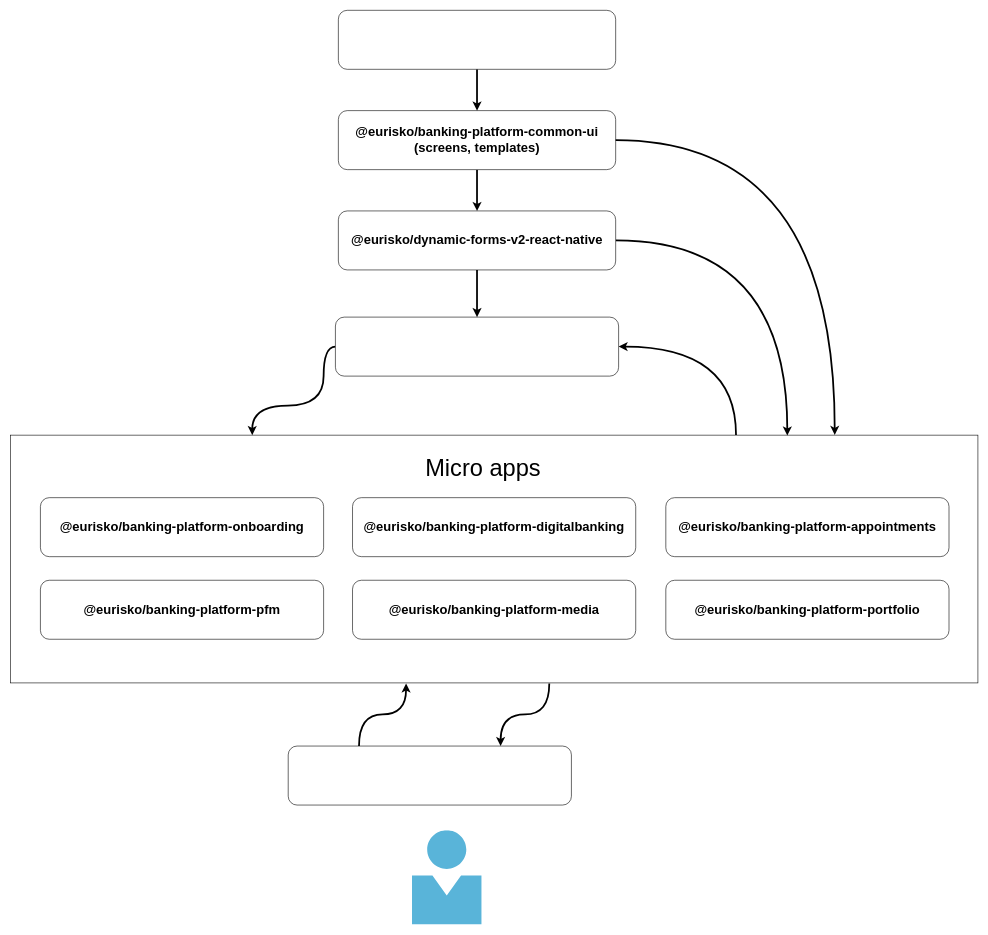
Some shapes in this 988 by 935 pixel diagram are drawn without their labels. Here are the shapes that lost their labels. From the top down, the centre of each, then its label:
At (x=477, y=39): "@eurisko/react-native-components (UI Visuals, atoms & molecules)".
At (x=477, y=346): "@eurisko/banking-platform-oauth (OAuth2.0, Login/OTP screens)".
At (x=429, y=775): "Host app".
